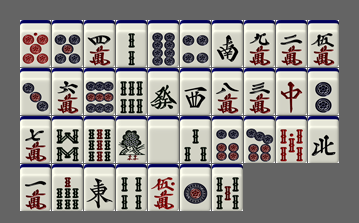0m: (148, 164, 179, 211)
0p: (20, 20, 51, 67)
0s: (276, 116, 307, 163)
1m: (20, 164, 51, 211)
1p: (180, 164, 211, 211)
1s: (116, 116, 147, 163)
1z: (84, 164, 115, 211)
2m: (276, 20, 307, 67)
2p: (308, 68, 339, 115)
2s: (116, 20, 147, 67)
2z: (212, 20, 243, 67)
3m: (244, 68, 275, 115)
3p: (20, 68, 51, 115)
3s: (180, 116, 211, 163)
3z: (180, 68, 211, 115)
4m: (84, 20, 115, 67)
4p: (180, 20, 211, 67)
4s: (116, 164, 147, 211)
4z: (308, 116, 339, 163)
5m: (308, 20, 339, 67)
5p: (52, 20, 83, 67)
5s: (212, 164, 243, 211)
5z: (148, 116, 179, 163)
6m: (52, 68, 83, 115)
6p: (212, 116, 243, 163)
6s: (116, 68, 147, 115)
6z: (148, 68, 179, 115)
7m: (20, 116, 51, 163)
7p: (244, 116, 275, 163)
7s: (52, 164, 83, 211)
7z: (276, 68, 307, 115)
8m: (212, 68, 243, 115)
8p: (148, 20, 179, 67)
8s: (52, 116, 83, 163)
9m: (244, 20, 275, 67)
9p: (84, 68, 115, 115)
9s: (84, 116, 115, 163)
